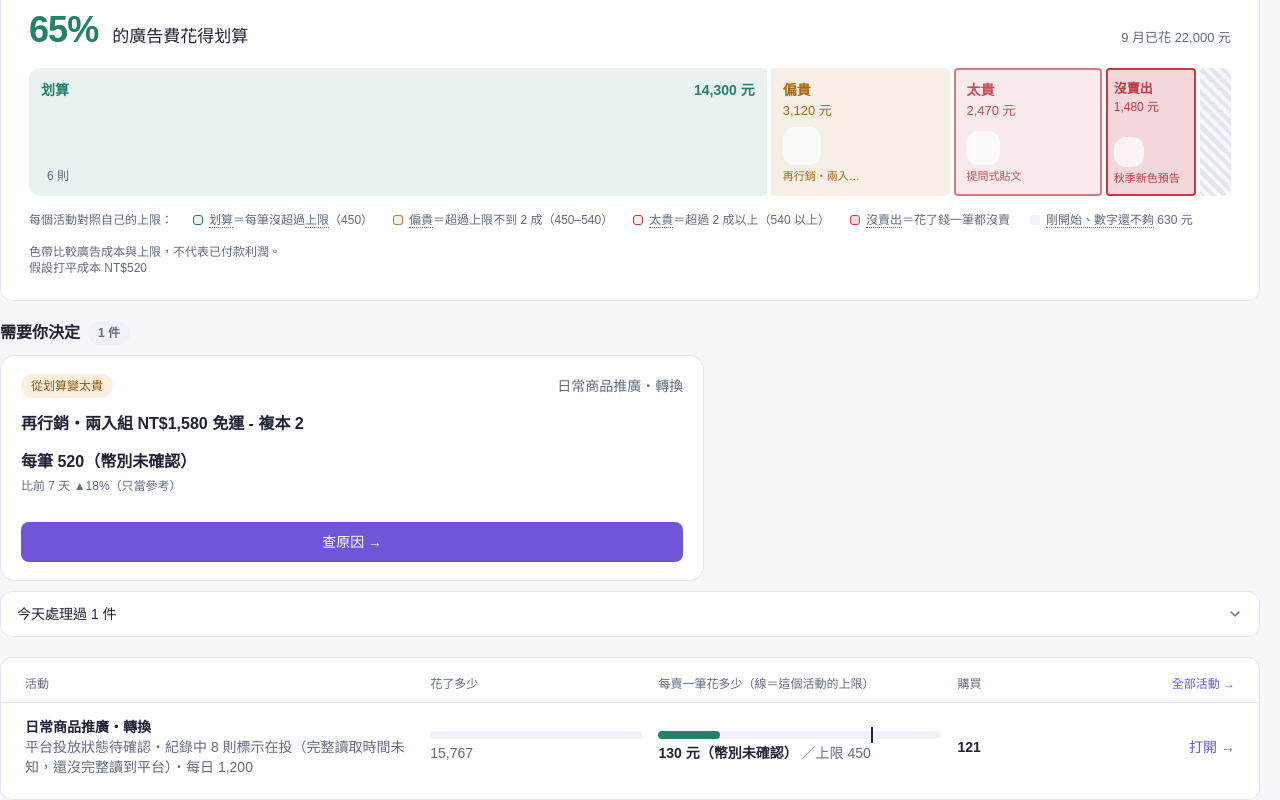
AdsHomePage (F28-I08 board D) › a handled decision leaves the cards and the count, and sits in the 今天處理過 fold
(page scrolled)
Expected: the text "1 件" is shown, [88,321,130,345]
Click the button "今天處理過 1 件".
click(67, 614)  # box [1,592,1259,636]
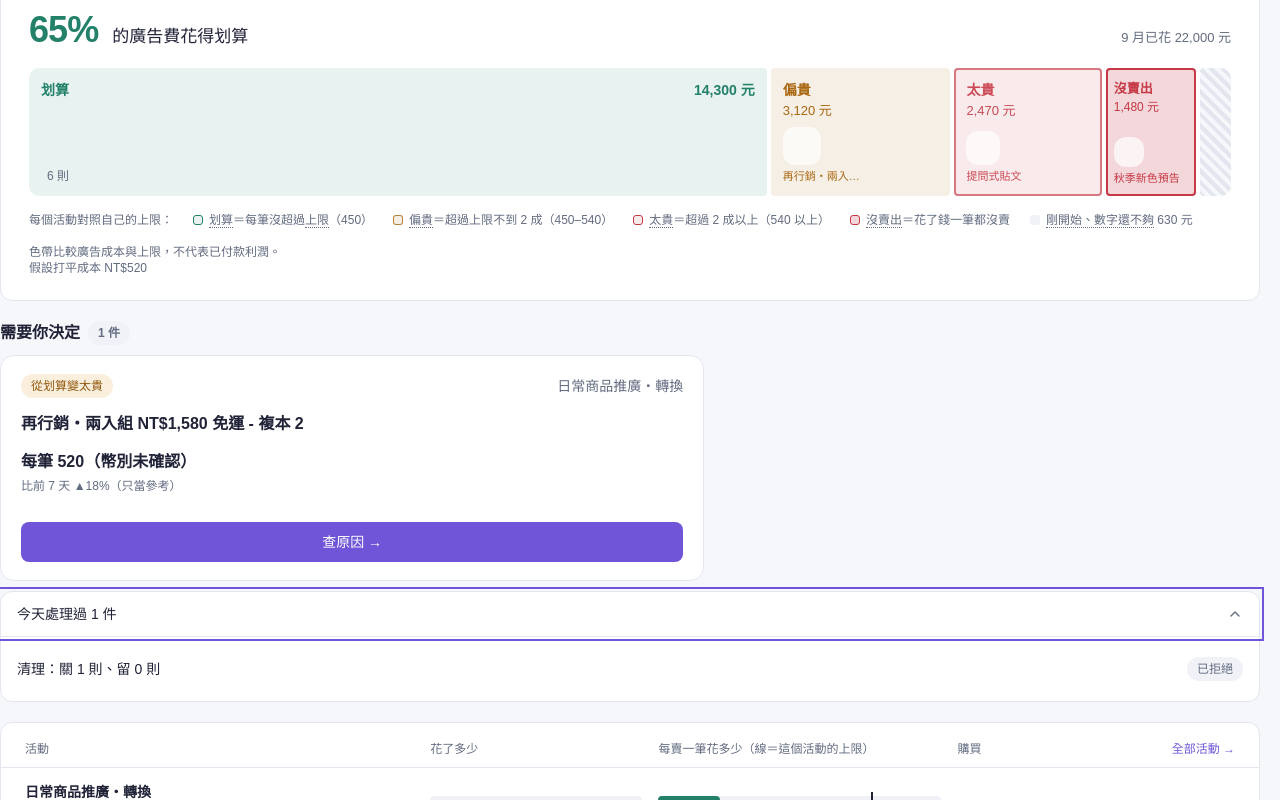
Expected: the text "清理：關 1 則、留 0 則" is shown, [17,661,160,677]
Expected: the text "已拒絕" is shown, [1187,657,1243,681]
